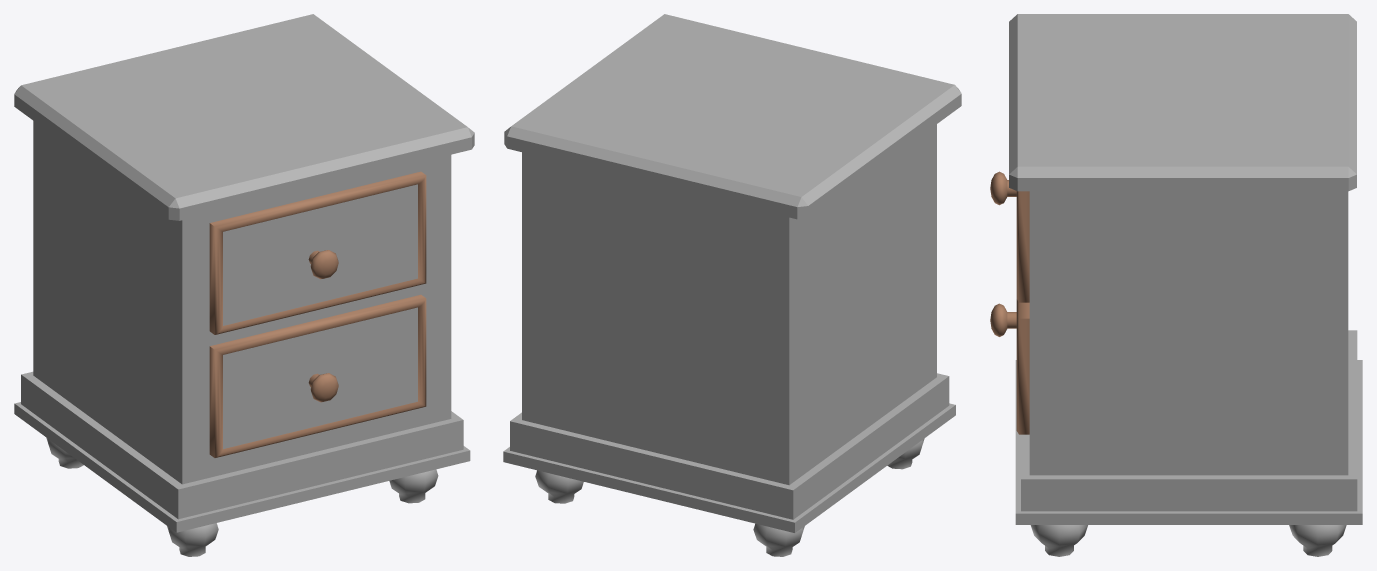
File: commode_2.fbx
3 renders of one model, left to right at view 1: azimuth 30°, elevation 25°; view 2: azimuth 150°, elevation 25°; view 3: azimuth 270°, elevation 25°, orthographic. The views are drawn at different scales.
Visible parts, largest first — view 1: commode2; view 2: commode2; view 3: commode2.
Boxes of the visible parts, left/top/right/bottom form: commode2: left=14, top=14, right=474, bottom=556; commode2: left=503, top=14, right=961, bottom=556; commode2: left=990, top=14, right=1362, bottom=556.
Bounding box in the file's own units: 9.51 × 11.16 × 9.35.
